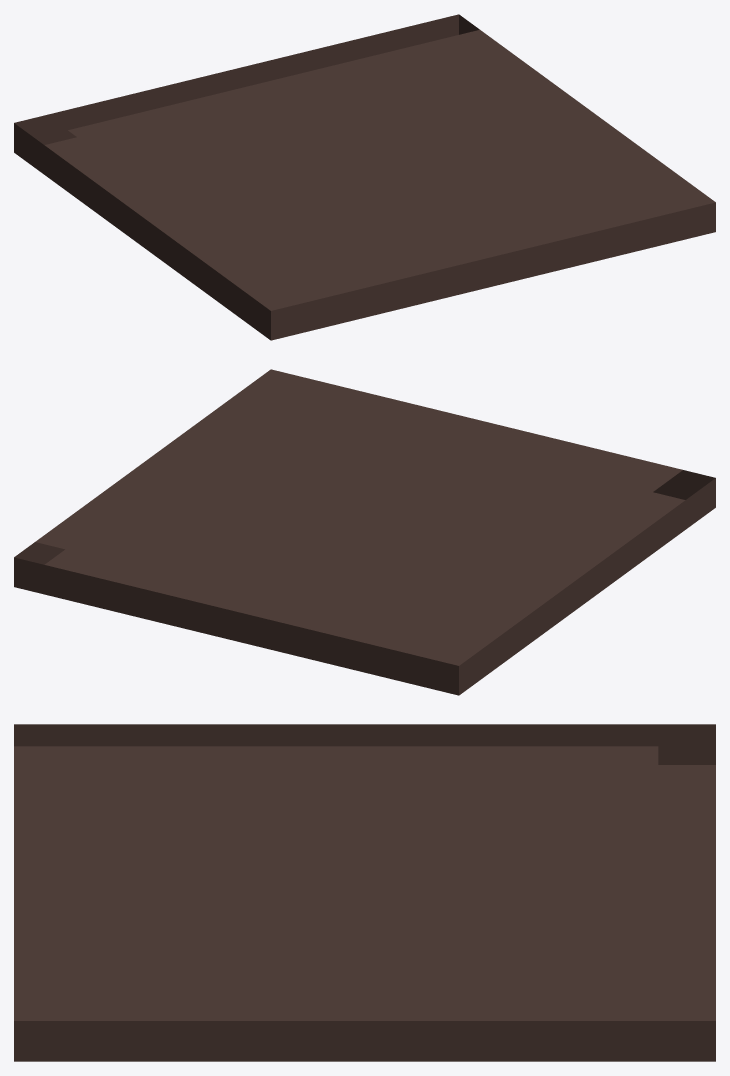
File: floor.fbx
3 views of the same model, one above another, from view 1: azimuth 30°, elevation 25°; view 2: azimuth 150°, elevation 25°; view 3: azimuth 270°, elevation 25° (orthographic). The views are drawn at different scales.
Parts seen in each view (by area): view 1: Floor; view 2: Floor; view 3: Floor.
Part boxes in pixels (<box>): Floor: <box>14,14,715,340</box>; Floor: <box>14,369,715,695</box>; Floor: <box>14,724,715,1061</box>.
Size of the model in its own units: 1262 by 80.46 by 1262.
